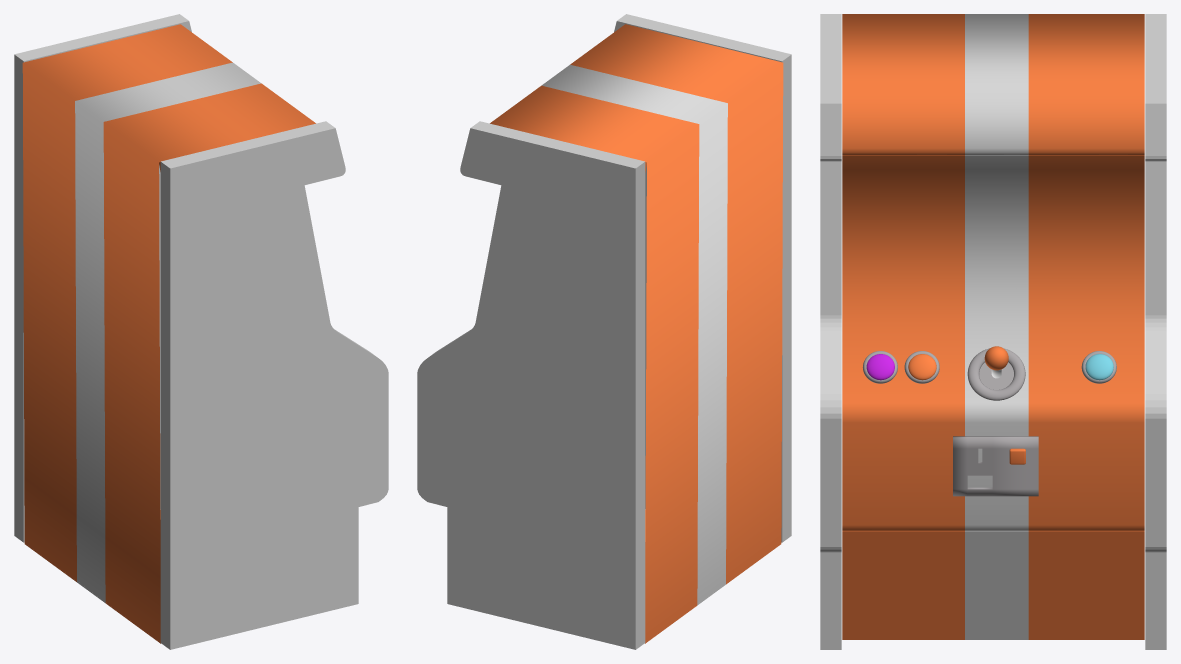
File: 3dmodel6489b8a6a69d7arcade.glb
The picture shows the model from 3 angles, left to right: view 1: azimuth 30°, elevation 25°; view 2: azimuth 150°, elevation 25°; view 3: azimuth 270°, elevation 25°; orthographic projection. The views are drawn at different scales.
Parts seen in each view (by area): view 1: Plane, Plane.002, Plane.001; view 2: Plane.001, Plane.002, Plane; view 3: Plane.002, Plane, Plane.001, Cube, Sphere.003, Sphere.001, Sphere, Sphere.002.
Boxes of the visible parts, x1,y1,x2,y2 form: Plane: (160,121,388,649); Plane.002: (22,24,315,643); Plane.001: (14,14,191,542); Plane.001: (417,121,645,649); Plane.002: (490,24,783,643); Plane: (614,14,791,542); Plane.002: (842,14,1144,639); Plane: (820,14,841,649); Plane.001: (1145,14,1166,649); Cube: (953,436,1038,496); Sphere.003: (967,346,1025,400); Sphere.001: (904,351,939,383); Sphere: (862,351,897,383); Sphere.002: (1081,351,1116,383).
Bounding box in the file's own units: 2.13 × 4.47 × 2.62.
